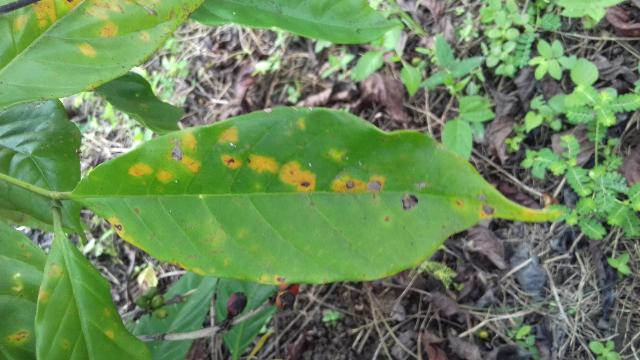rust_level_2: (73, 107, 559, 285)
